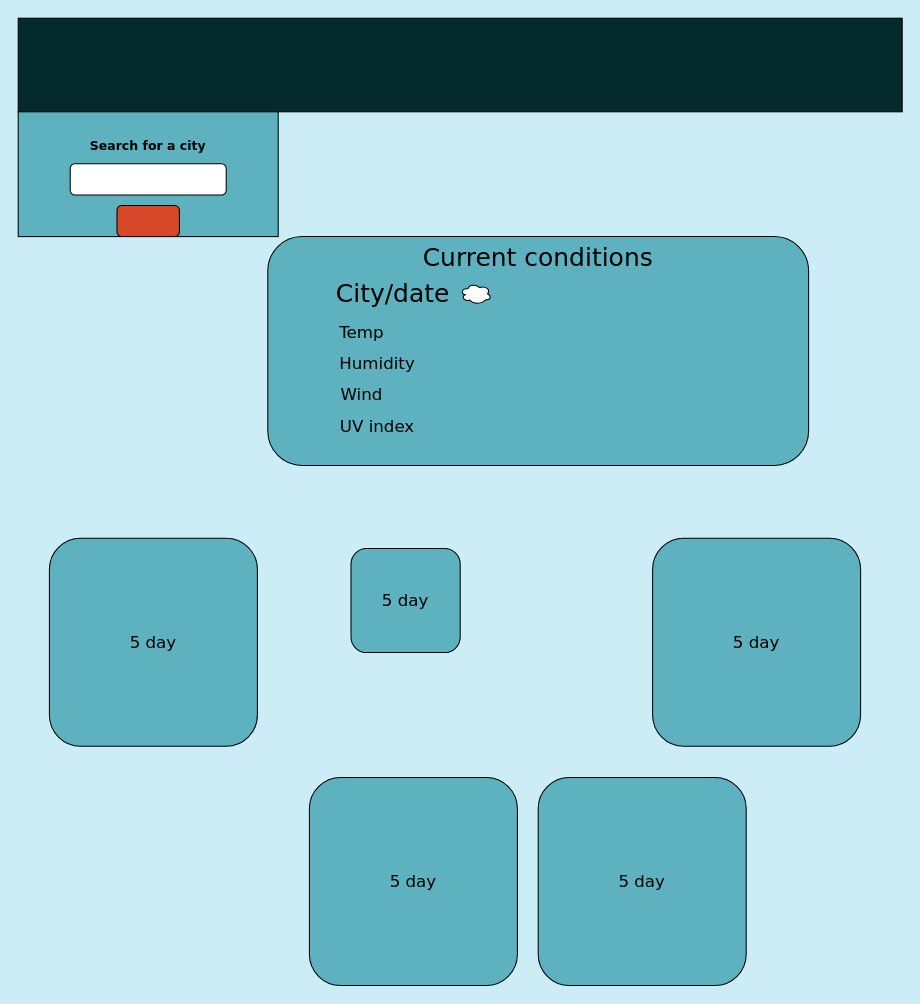
Image size: 920x1004. Some labels were removed from this diagram. The shapes that lost their labels are listed below. From the top down, each one's centre as x and y in pixels, then its label:
At point (459, 64): "Weather Dashboard".
At point (147, 220): "Search".
